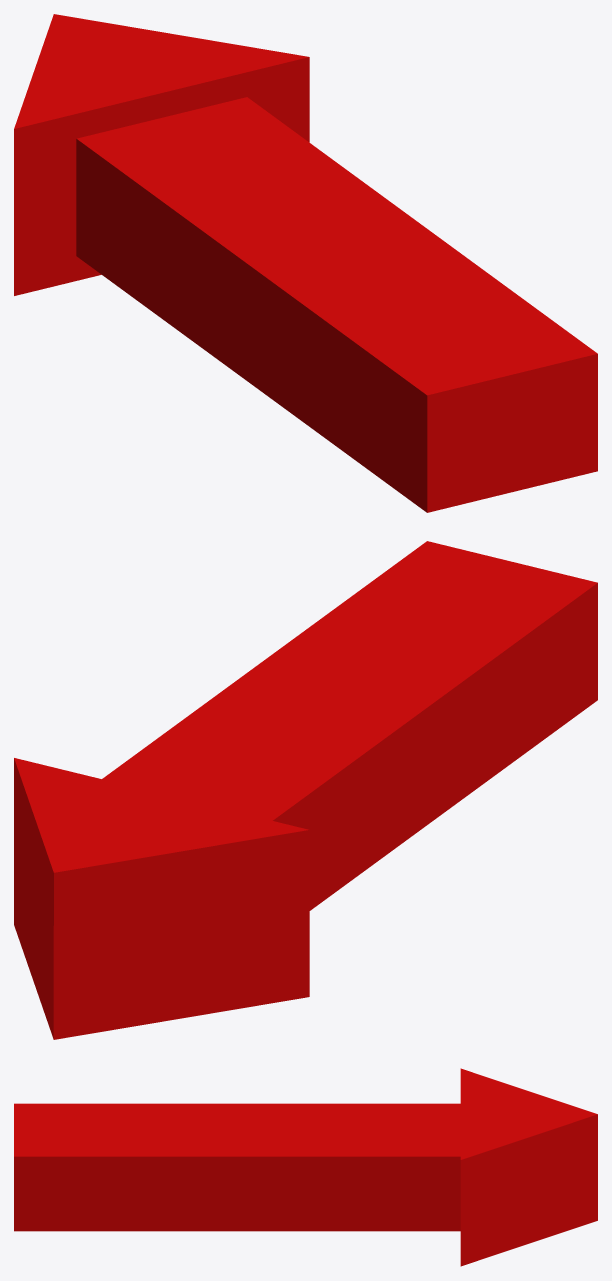
The model's file is Arrow.fbx.
3 renders of one model, top to bottom at view 1: azimuth 30°, elevation 25°; view 2: azimuth 150°, elevation 25°; view 3: azimuth 270°, elevation 25°, orthographic. The views are drawn at different scales.
Parts seen in each view (by area): view 1: pCube2, pCube1; view 2: pCube2, pCube1; view 3: pCube2, pCube1.
Part boxes in pixels (x1,y1,x2,y2): pCube2: [76, 97, 597, 512]; pCube1: [14, 14, 309, 295]; pCube2: [102, 541, 597, 910]; pCube1: [14, 758, 309, 1039]; pCube2: [14, 1103, 460, 1231]; pCube1: [460, 1068, 597, 1266].
Size of the model in its own units: 1.11 by 0.5977 by 2.97.
